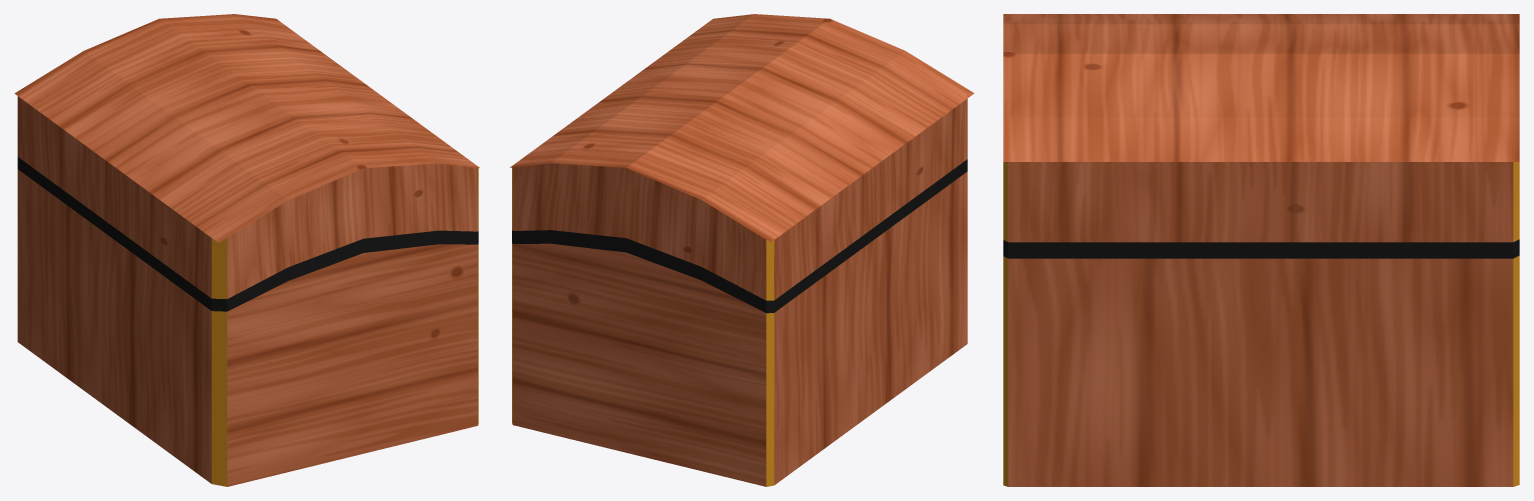
Rendered from QuestChest.glb.
The picture shows the model from 3 angles, left to right: view 1: azimuth 30°, elevation 25°; view 2: azimuth 150°, elevation 25°; view 3: azimuth 270°, elevation 25°; orthographic projection. The views are drawn at different scales.
Visible parts, largest first — view 1: Cube, Cube.001; view 2: Cube, Cube.001; view 3: Cube, Cube.001.
Boxes of the visible parts, x1,y1,x2,y2 form: Cube: [17, 157, 478, 486]; Cube.001: [14, 14, 479, 298]; Cube: [512, 159, 967, 486]; Cube.001: [510, 14, 974, 300]; Cube: [1003, 239, 1519, 486]; Cube.001: [1003, 14, 1519, 242].
Bounding box in the file's own units: 1 × 1.04 × 1.35.
3 materials, 1 textured.
